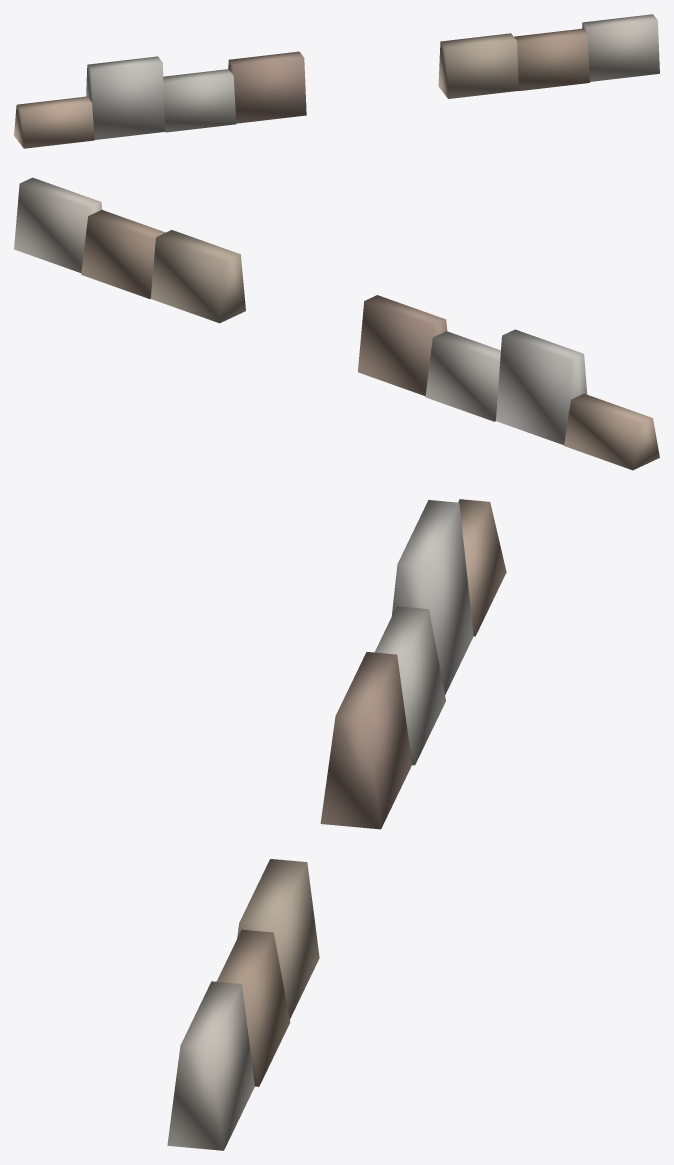
File: farm_22_39_collision.glb
The picture shows the model from 3 angles, top to bottom: view 1: azimuth 30°, elevation 25°; view 2: azimuth 150°, elevation 25°; view 3: azimuth 270°, elevation 25°; orthographic projection. The views are drawn at different scales.
Parts seen in each view (by area): view 1: geometry_0; view 2: geometry_0; view 3: geometry_0.
Boxes of the visible parts, x1=… form: geometry_0: x1=14, y1=14, x2=659, y2=148; geometry_0: x1=14, y1=177, x2=659, y2=470; geometry_0: x1=167, y1=499, x2=506, y2=1150.
Bounding box in the file's own units: 13.84 × 1.79 × 3.55.
